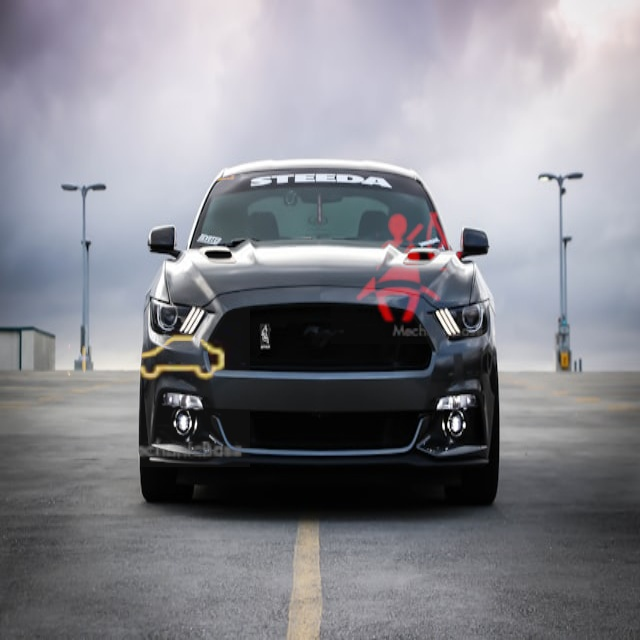symbol: (37, 254, 250, 467), (331, 186, 489, 344), (123, 70, 281, 228)
